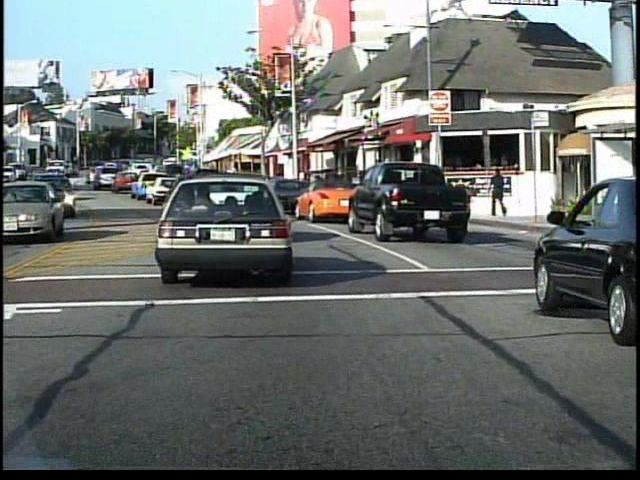person: (488, 168, 508, 223)
